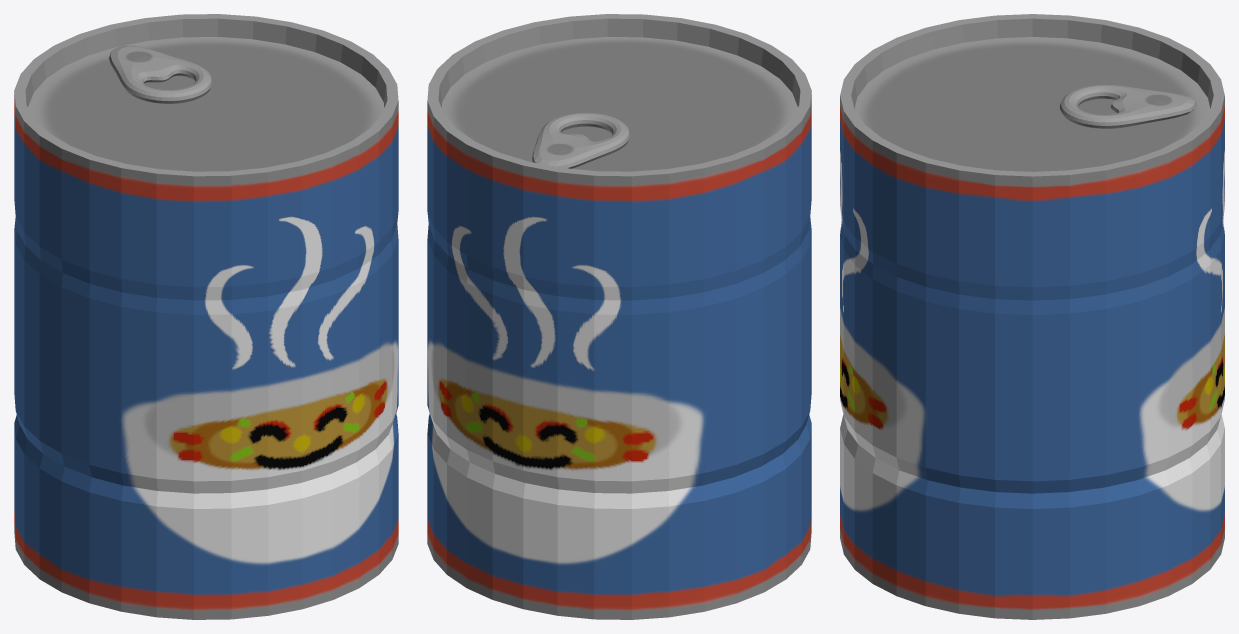
The model's file is soupcan.fbx.
3 views of the same model, side by side, from view 1: azimuth 30°, elevation 25°; view 2: azimuth 150°, elevation 25°; view 3: azimuth 270°, elevation 25° (orthographic).
Parts seen in each view (by area): view 1: Cylinder.001; view 2: Cylinder.001; view 3: Cylinder.001.
Boxes of the visible parts, x1,y1,x2,y2 form: Cylinder.001: (14,14,398,619); Cylinder.001: (427,14,811,619); Cylinder.001: (840,14,1224,619).
Bounding box in the file's own units: 214 × 272 × 214.
